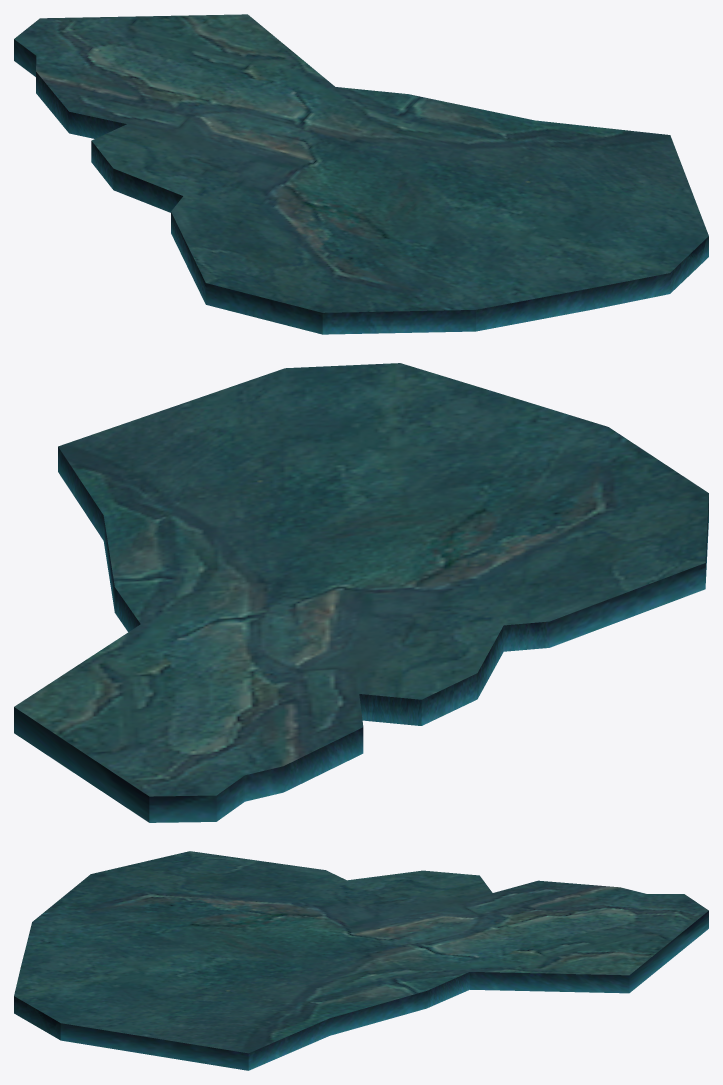
Rendered from yw_mojiediyu_yunmu01.FBX.
The picture shows the model from 3 angles, top to bottom: view 1: azimuth 30°, elevation 25°; view 2: azimuth 150°, elevation 25°; view 3: azimuth 270°, elevation 25°; orthographic projection. The views are drawn at different scales.
Visible parts, largest first — view 1: yw_mojiediyu_yunmu01; view 2: yw_mojiediyu_yunmu01; view 3: yw_mojiediyu_yunmu01.
Part boxes in pixels (x1,y1,x2,y2): yw_mojiediyu_yunmu01: (14,14,708,334); yw_mojiediyu_yunmu01: (14,363,708,822); yw_mojiediyu_yunmu01: (14,851,708,1070).
Bounding box in the file's own units: 301 × 12.64 × 436.
